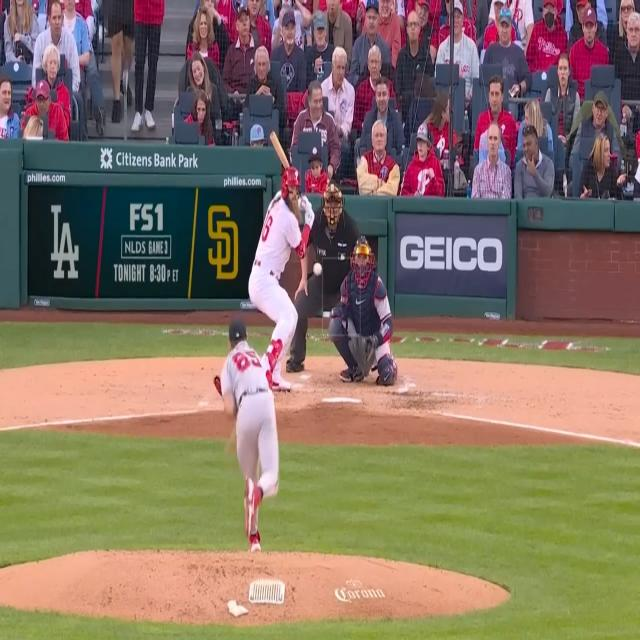baseball: (313, 262, 322, 277)
